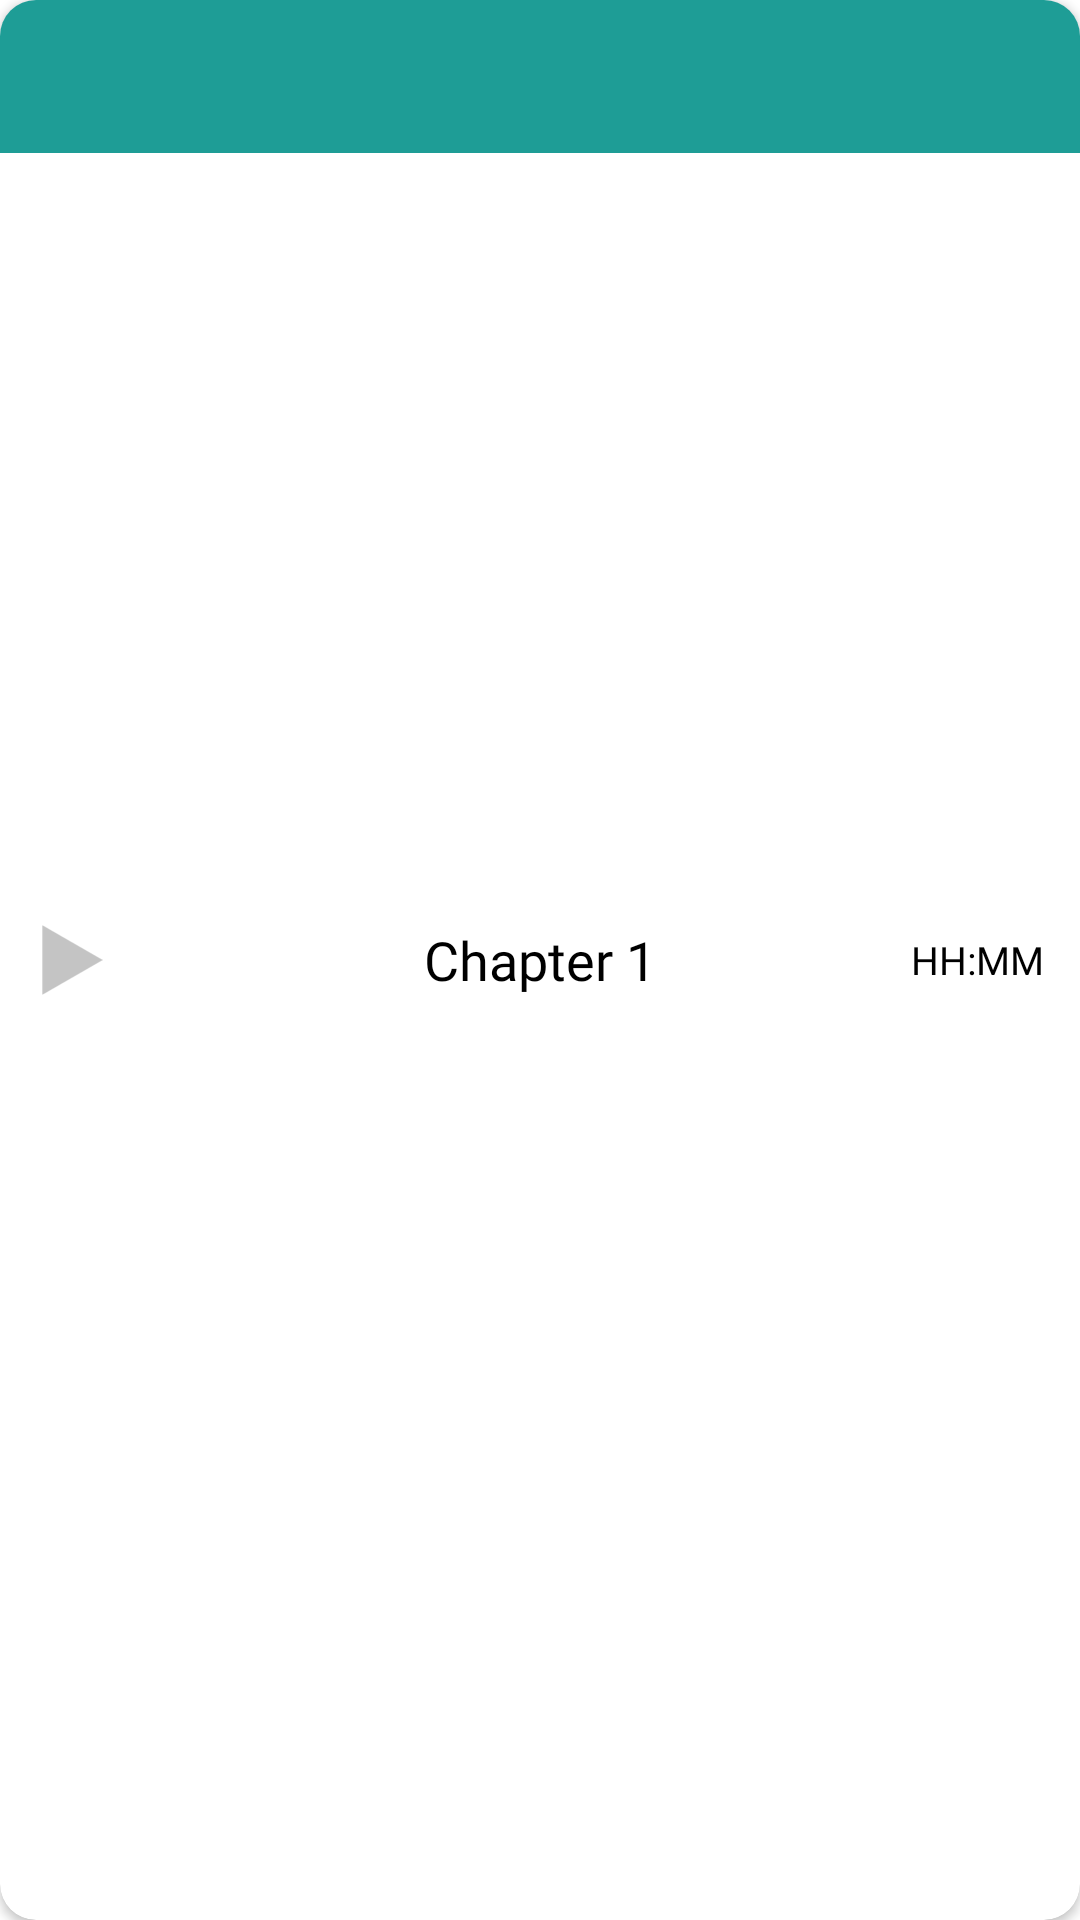

Icon bounding boxes for this 1080 × 1920 phone screenshot, format BBox(x1, y1, x2, y2):
playbutton: BBox(42, 926, 102, 994)
